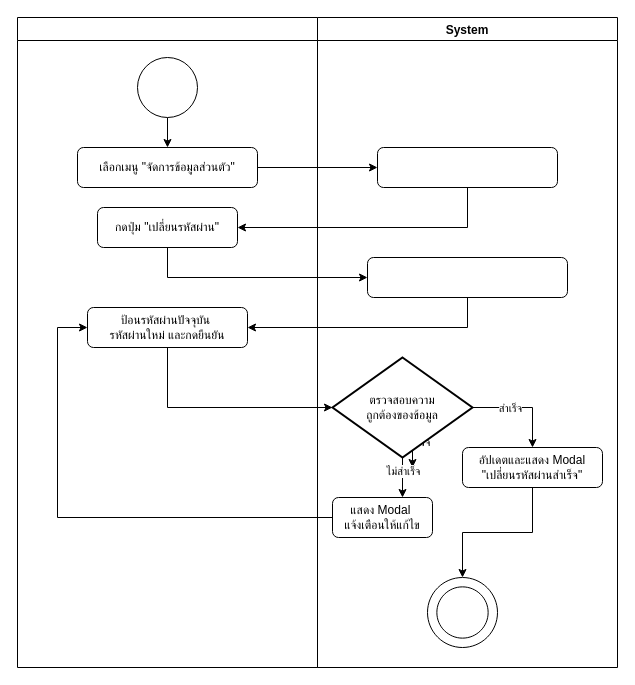
Image size: 635x685. Some labels were removed from this diagram. The box of each missing label's shape, as (x1, y1, x2, y2) in pixels:
Actor: (16, 16, 318, 668)
แสดงฟอร์มสำหรับเปลี่ยนรหัสผ่าน: (366, 256, 568, 298)
แสดงหน้าข้อมูลส่วนตัวปัจจุบัน: (376, 146, 558, 188)
